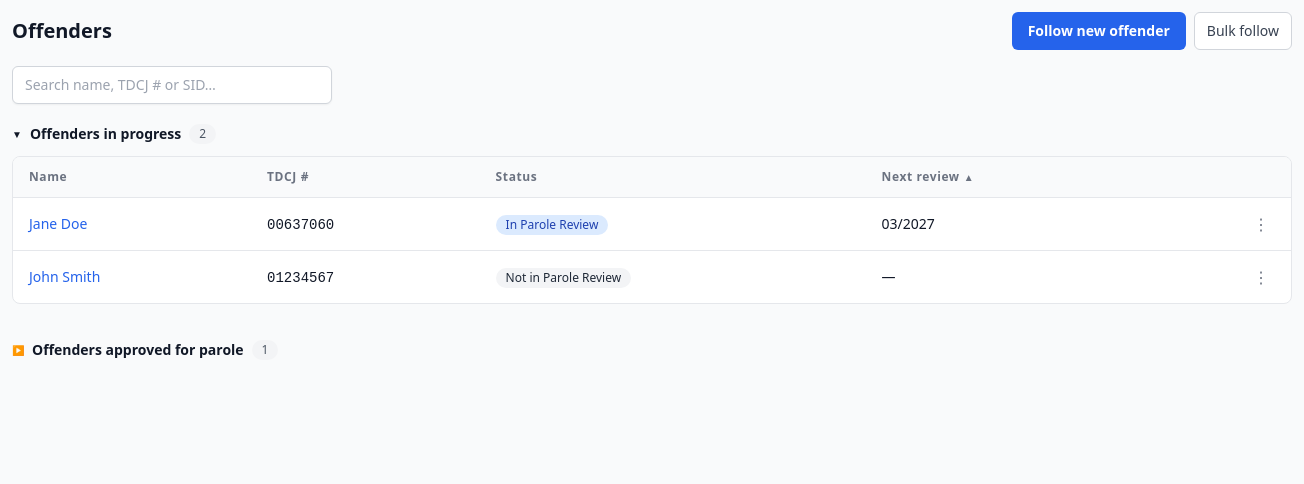
Test: OffenderList › keeps the approved section collapsed by default and expands it on click
Expected: the text "Alicia Ruiz" is not shown
Click the button "▶ Offenders approved for parole 1": (145, 350) top-left (12, 340), bottom-right (278, 360)
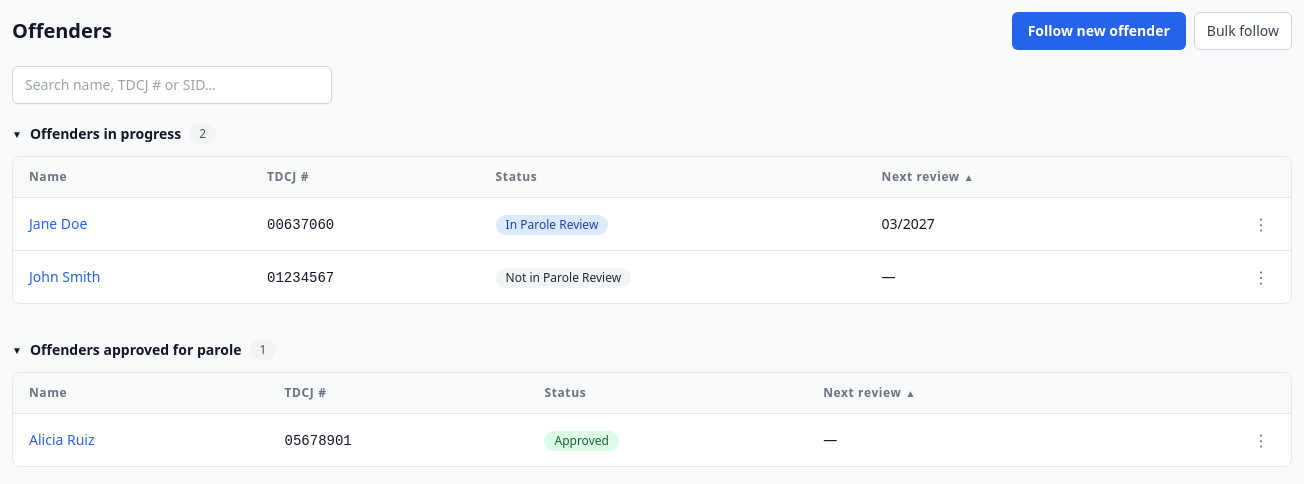
Result: the button "▼ Offenders approved for parole 1" is expanded at top-left (12, 340), bottom-right (276, 360)
Result: the link "Alicia Ruiz" is shown at top-left (29, 430), bottom-right (95, 449)
Result: the text "Approved" is shown at top-left (544, 430), bottom-right (619, 450)
